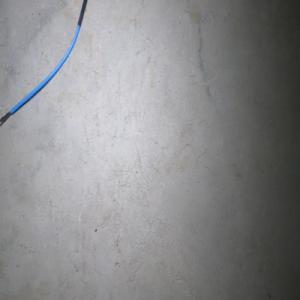Wire: (0, 0, 87, 125)
